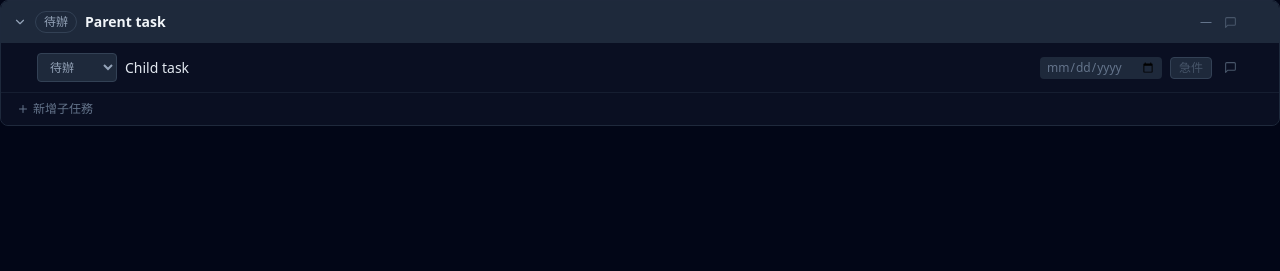
Scenario: TaskRow notes › uses the current-progress note text for both parent and leaf controls
Click the button titled "目前進度／備註" in the row of "待辦" at (1230, 22), box [1220,12,1241,32]
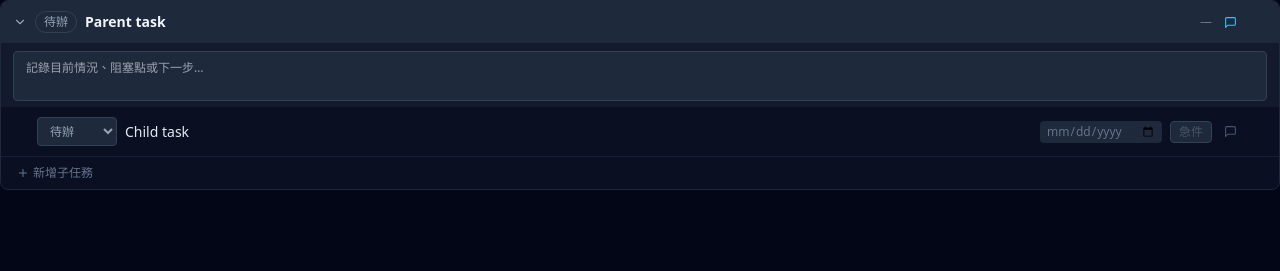
Click the 2nd button titled "目前進度／備註" at (1230, 132), box [1220,121,1241,142]
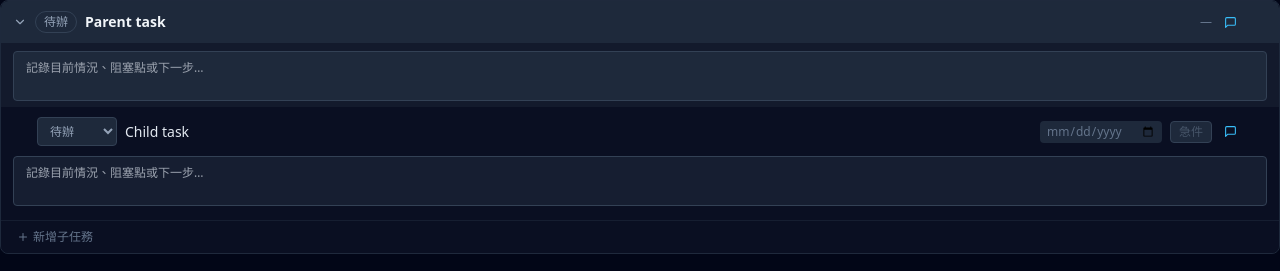
Check: the number of text boxes named "目前進度／備註" is 2, box [13,51,1267,101]; [13,156,1267,206]
Check: the number of text boxes with placeholder "記錄目前情況、阻塞點或下一步…" is 2, box [13,51,1267,101]; [13,156,1267,206]
